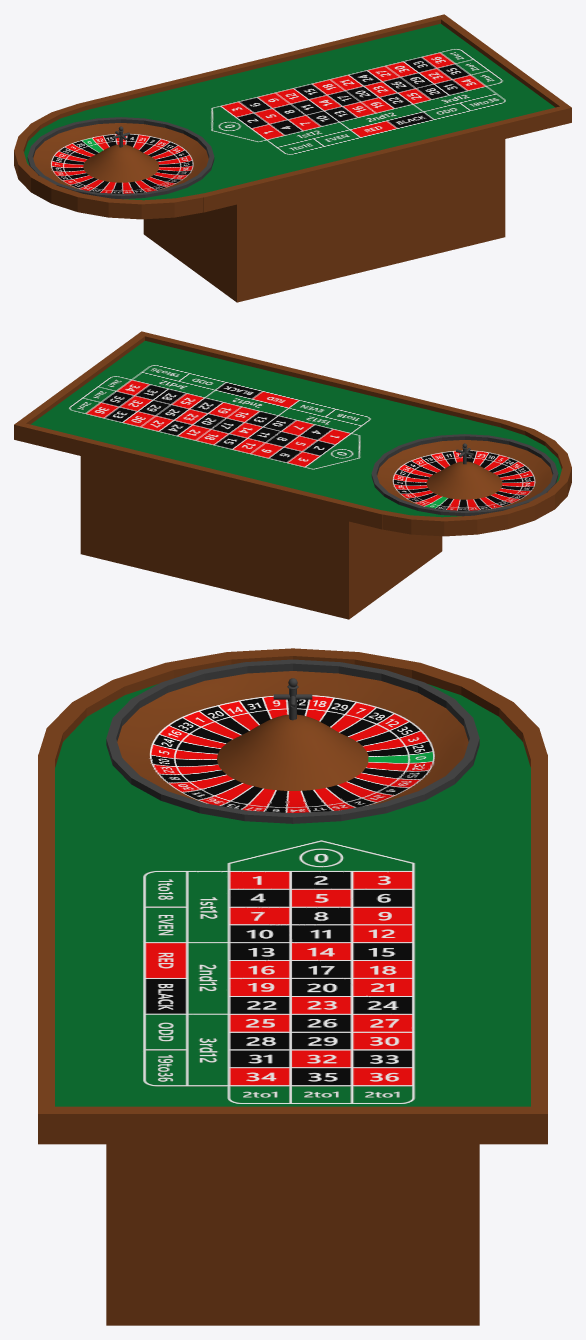
Rendered from roulette table embedded spinner.fbx.
3 views of the same model, one above another, from view 1: azimuth 30°, elevation 25°; view 2: azimuth 150°, elevation 25°; view 3: azimuth 270°, elevation 25° (orthographic). The views are drawn at different scales.
Visible parts, largest first — view 1: roulette_table1, innerSpinner1, outerSpinner1; view 2: roulette_table1, innerSpinner1, outerSpinner1; view 3: roulette_table1, innerSpinner1, outerSpinner1.
Boxes of the visible parts, left/top/right/bottom form: roulette_table1: left=14, top=14, right=571, bottom=302; innerSpinner1: left=33, top=123, right=208, bottom=193; outerSpinner1: left=27, top=117, right=214, bottom=199; roulette_table1: left=14, top=331, right=571, bottom=619; innerSpinner1: left=377, top=440, right=552, bottom=510; outerSpinner1: left=371, top=434, right=558, bottom=516; roulette_table1: left=38, top=648, right=547, bottom=1325; innerSpinner1: left=117, top=671, right=468, bottom=812; outerSpinner1: left=106, top=659, right=479, bottom=823.
Bounding box in the file's own units: 130 × 41.2 × 60.
